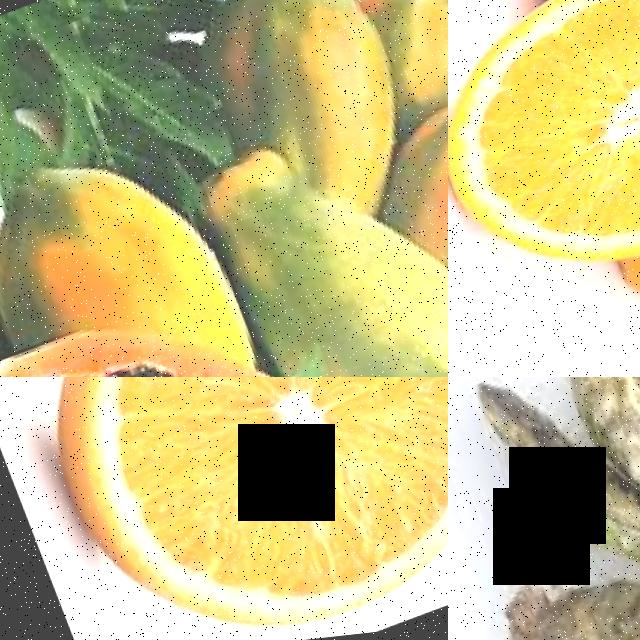orange: (0, 377, 448, 640), (448, 0, 640, 312)
oysters: (541, 377, 640, 560), (486, 545, 640, 640)
pawpaw: (0, 121, 218, 373), (162, 0, 403, 187), (254, 193, 448, 377), (0, 272, 339, 377), (366, 88, 448, 338), (341, 0, 448, 149)
